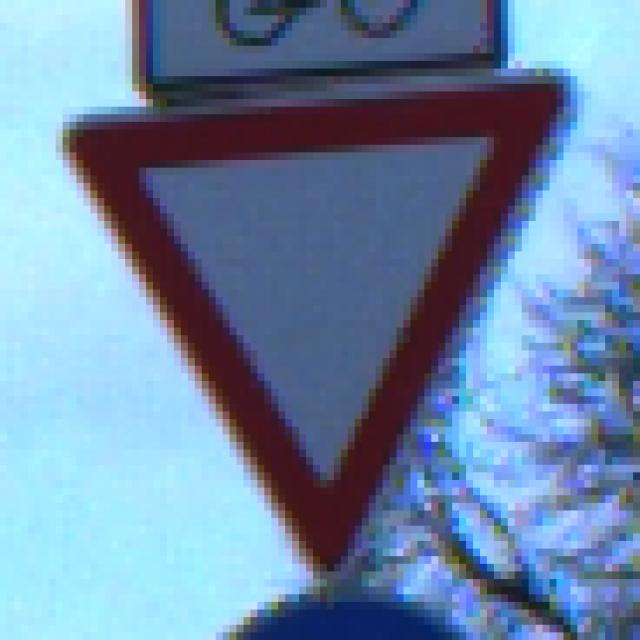Give Way: (57, 54, 585, 588)
